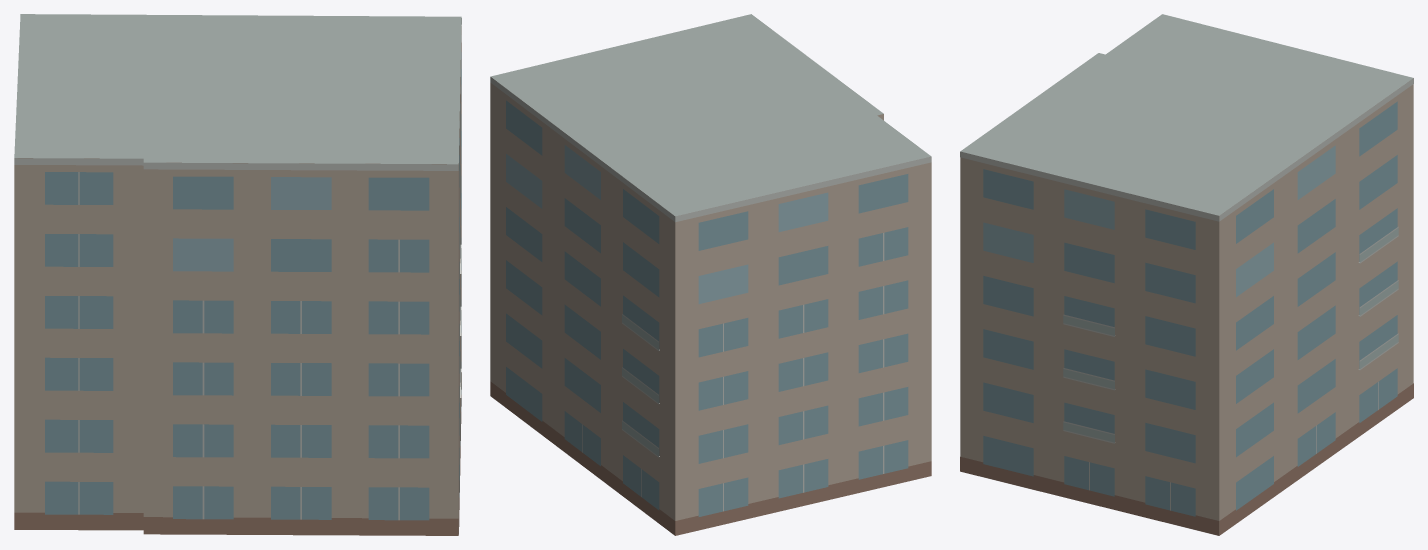
Rendered from survey-upis-32675578.glb.
3 renders of one model, left to right at view 1: azimuth 30°, elevation 25°; view 2: azimuth 150°, elevation 25°; view 3: azimuth 270°, elevation 25°, orthographic. The views are drawn at different scales.
Visible parts, largest first — view 1: survey-upis-32675578.tmp; view 2: survey-upis-32675578.tmp; view 3: survey-upis-32675578.tmp.
Boxes of the visible parts, x1=… form: survey-upis-32675578.tmp: x1=14, y1=14, x2=461, y2=535; survey-upis-32675578.tmp: x1=490, y1=14, x2=931, y2=535; survey-upis-32675578.tmp: x1=960, y1=14, x2=1413, y2=535.
Size of the model in its own units: 18 by 13.3 by 17.1.
